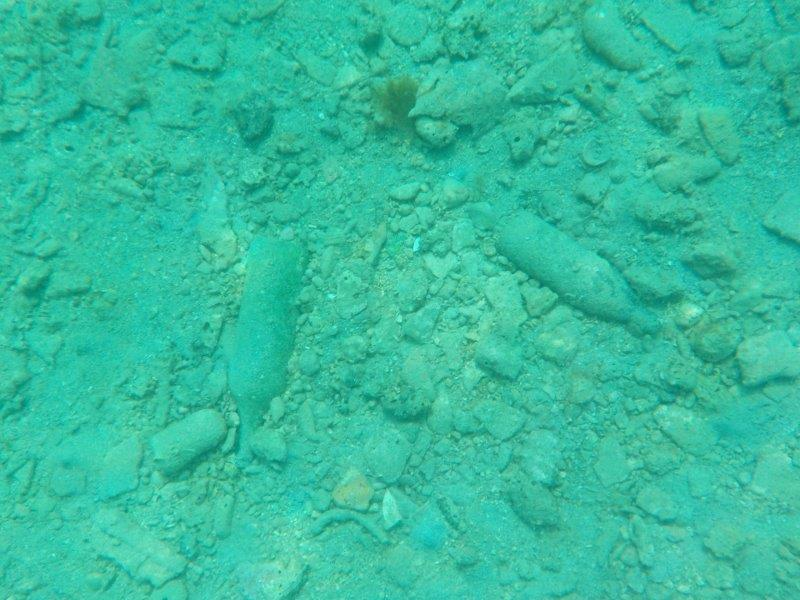bottle: (492, 206, 666, 338), (222, 230, 315, 473)
